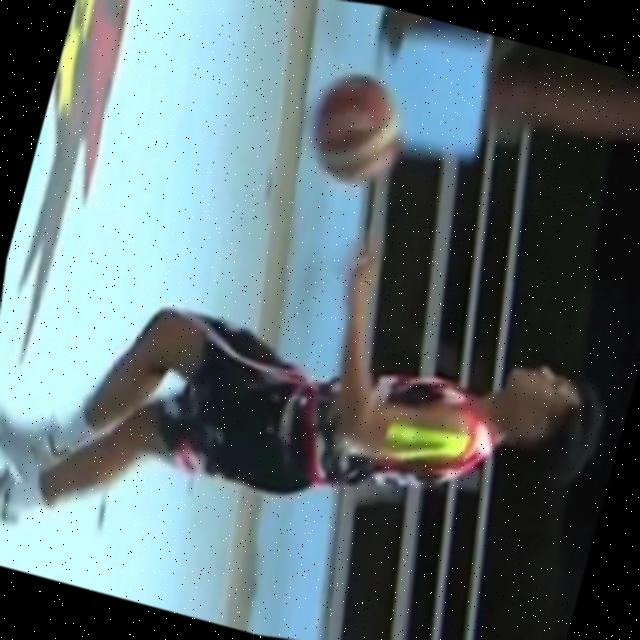ball: (285, 52, 430, 207)
